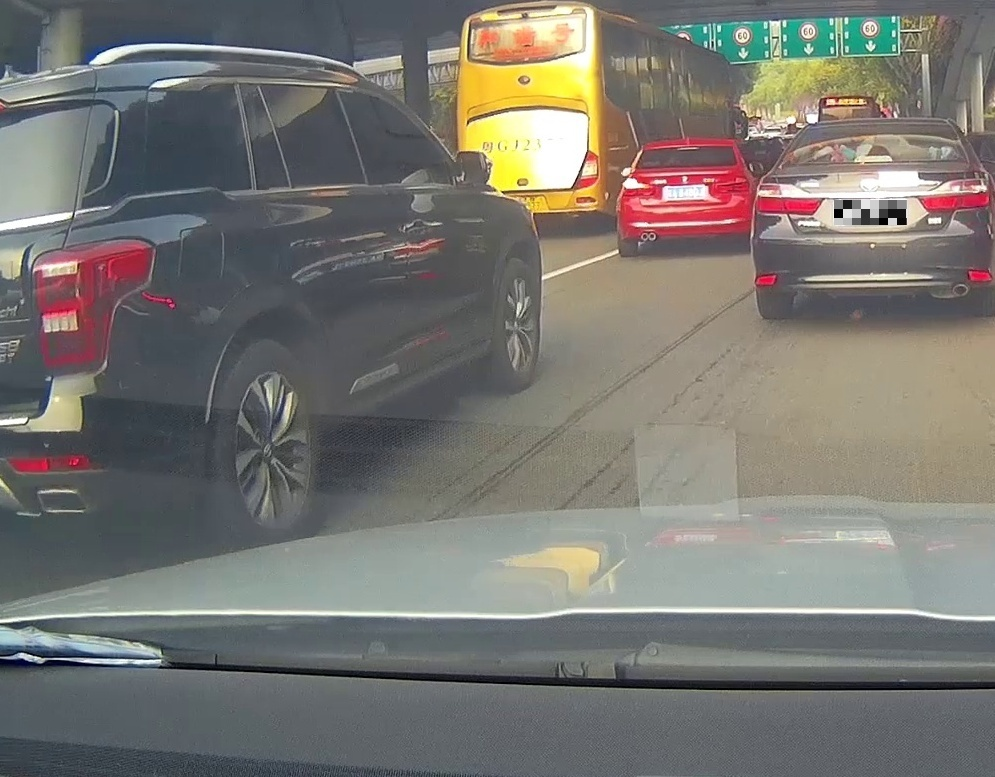L_light: (756, 183, 822, 216)
R_light: (918, 177, 990, 212)
T_light: (866, 125, 896, 129)
day-no: (751, 118, 995, 319)
plate_1: (834, 200, 907, 225)
